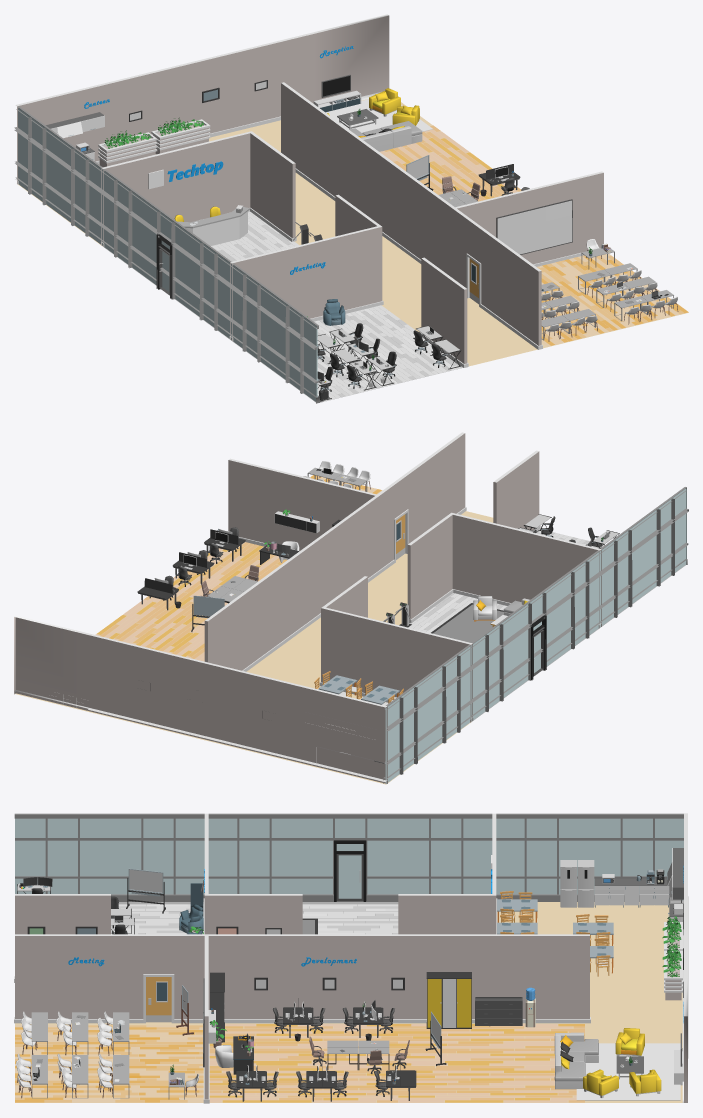
File: office.glb
3 renders of one model, top to bottom at view 1: azimuth 30°, elevation 25°; view 2: azimuth 150°, elevation 25°; view 3: azimuth 270°, elevation 25°, orthographic. The views are drawn at different scales.
Visible parts, largest first — view 1: floor_2.278, floor_2.275, floor_2.096, floor_2.095, floor_2.010, floor_2.085, floor_2.008, floor_2.011, floor_2.013, floor_2.304, floor_2.233, floor_2.097 (+30 smaller); view 2: floor_2.275, floor_2.097, floor_2.278, floor_2.008, floor_2.085, floor_2.013, floor_2.011, floor_2.010, floor_2.084, floor_2.304, floor_2.207, floor_2.299 (+24 smaller); view 3: floor_2.097, floor_2.095, floor_2.283, floor_2.233, floor_2.285, floor_2.284, floor_2.206, floor_2.208, floor_2.085, floor_2.301, floor_2.286, floor_2.300 (+48 smaller).
Boxes of the visible parts, x1,y1,x2,y2 form: floor_2.278: [176, 131, 296, 241]; floor_2.275: [305, 194, 383, 321]; floor_2.096: [314, 305, 462, 401]; floor_2.095: [537, 253, 688, 346]; floor_2.010: [239, 32, 314, 129]; floor_2.085: [409, 176, 529, 278]; floor_2.008: [313, 14, 389, 100]; floor_2.011: [165, 50, 240, 137]; floor_2.013: [90, 68, 165, 164]; floor_2.304: [528, 171, 603, 266]; floor_2.233: [495, 239, 542, 349]; floor_2.097: [380, 125, 521, 201]; floor_2.275: [407, 512, 526, 623]; floor_2.097: [95, 542, 286, 661]; floor_2.278: [319, 576, 397, 702]; floor_2.008: [14, 615, 89, 711]; floor_2.085: [302, 477, 381, 596]; floor_2.013: [236, 670, 312, 765]; floor_2.011: [162, 652, 238, 747]; floor_2.010: [88, 633, 164, 729]; floor_2.084: [311, 688, 387, 783]; floor_2.304: [228, 458, 303, 550]; floor_2.207: [248, 558, 294, 667]; floor_2.299: [383, 675, 431, 783]; floor_2.097: [209, 1024, 584, 1102]; floor_2.095: [15, 1025, 203, 1102]; floor_2.283: [302, 813, 398, 901]; floor_2.233: [14, 934, 110, 1023]; floor_2.285: [208, 813, 302, 893]; floor_2.284: [398, 813, 492, 893]; floor_2.206: [494, 934, 590, 1023]; floor_2.208: [302, 934, 398, 1023]; floor_2.085: [204, 934, 302, 1058]; floor_2.301: [14, 813, 110, 893]; floor_2.286: [111, 813, 204, 901]; floor_2.300: [496, 813, 589, 901].
Size of the model in its own units: 20.21 by 4.09 by 28.17.
4 materials, 1 textured.
